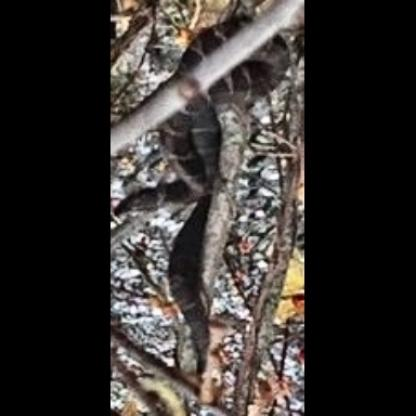Snake: (162, 0, 306, 416)
